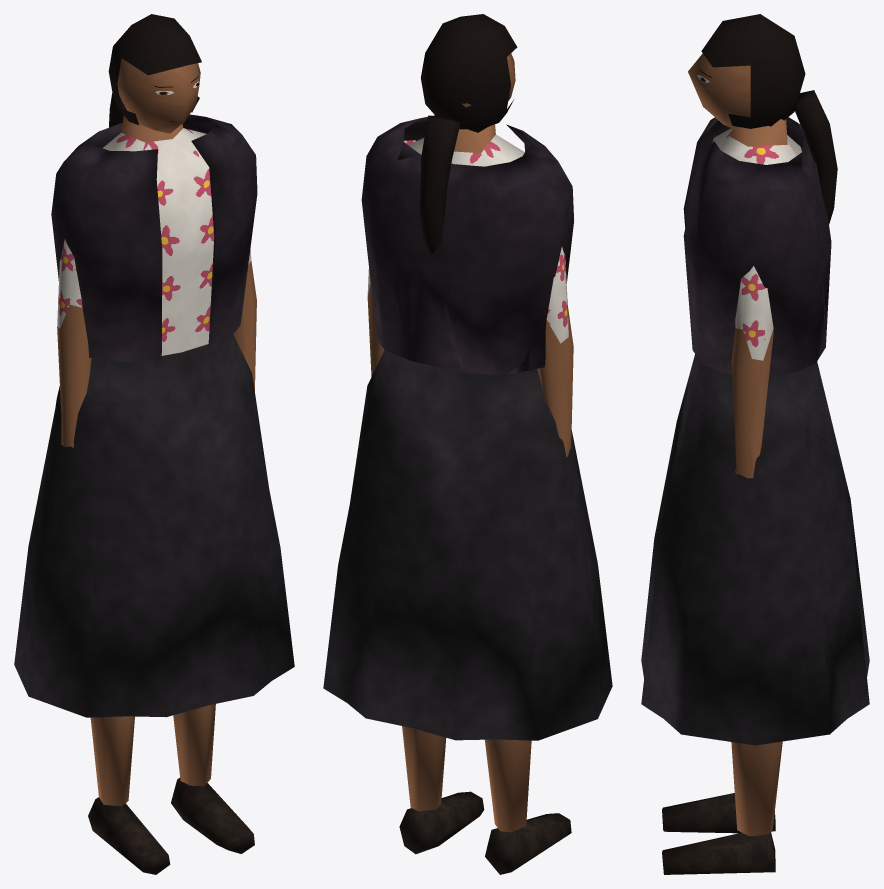
The model's file is persona_mujer_a_lod.obj.
3 renders of one model, left to right at view 1: azimuth 30°, elevation 25°; view 2: azimuth 150°, elevation 25°; view 3: azimuth 270°, elevation 25°, orthographic. The views are drawn at different scales.
Parts seen in each view (by area): view 1: Falda, Rebozo, Torso, PiernaDer, PiernaIzq, BrazoDer, Pelo, Cabeza, BrazoIzq; view 2: Falda, Rebozo, Pelo, PiernaDer, PiernaIzq, BrazoDer, Torso, BrazoIzq; view 3: Falda, Rebozo, Pelo, PiernaIzq, BrazoIzq, Cabeza, Torso, PiernaDer.
Boxes of the visible parts, box(x1,y1,x2,y2) form: Falda: box(14, 334, 294, 717); Rebozo: box(51, 114, 257, 361); Torso: box(103, 115, 214, 355); PiernaDer: box(88, 716, 170, 874); PiernaIzq: box(171, 704, 254, 853); BrazoDer: box(57, 239, 91, 447); Pelo: box(108, 14, 201, 127); Cabeza: box(117, 58, 200, 133); BrazoIzq: box(233, 248, 256, 391); Falda: box(323, 350, 612, 740); Rebozo: box(361, 115, 574, 375); Pelo: box(420, 14, 517, 255); PiernaDer: box(485, 739, 571, 874); PiernaIzq: box(399, 726, 484, 854); BrazoDer: box(537, 246, 573, 457); Torso: box(408, 124, 524, 166); BrazoIzq: box(367, 140, 415, 376); Falda: box(641, 354, 869, 745); Rebozo: box(683, 117, 831, 377); Pelo: box(701, 14, 837, 224); PiernaIzq: box(662, 741, 782, 874); BrazoIzq: box(731, 266, 773, 478); Cabeza: box(688, 53, 750, 129); Torso: box(712, 119, 801, 164); PiernaDer: box(662, 793, 775, 833).
Size of the model in its own units: 0.5257 by 1.63 by 0.4019.
7 materials, 7 textured.
